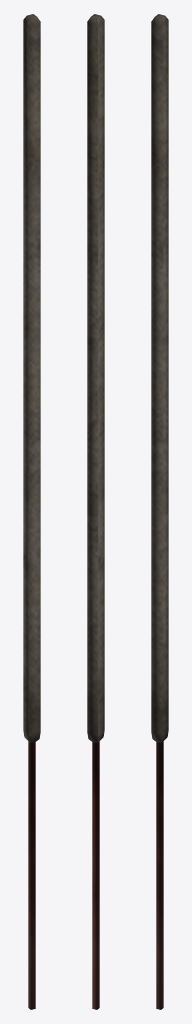
Rendered from incense01.FBX.
3 renders of one model, left to right at view 1: azimuth 30°, elevation 25°; view 2: azimuth 150°, elevation 25°; view 3: azimuth 330°, elevation 25°, orthographic.
Parts seen in each view (by area): view 1: SM_Incense01; view 2: SM_Incense01; view 3: SM_Incense01.
Part boxes in pixels (bbox=[...]): SM_Incense01: bbox=[23, 14, 40, 1009]; SM_Incense01: bbox=[87, 14, 104, 1009]; SM_Incense01: bbox=[151, 14, 168, 1009].
Bounding box in the file's own units: 0.3017 × 26.08 × 0.3017.
1 material, 1 textured.
